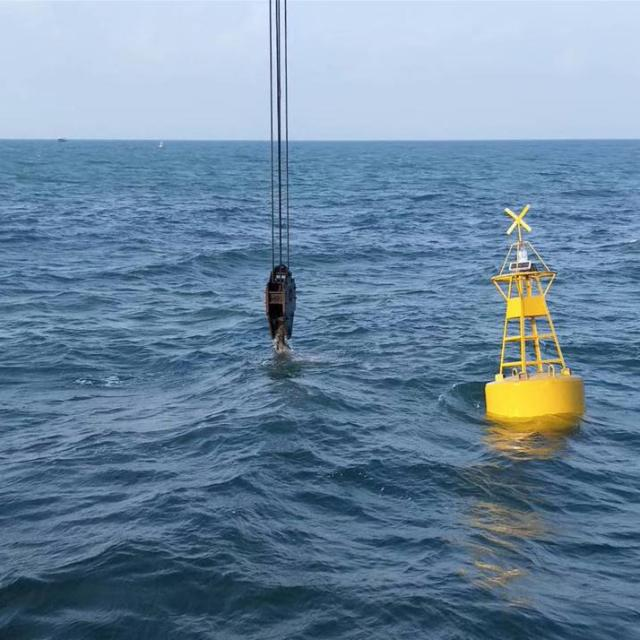buoy: (479, 198, 590, 432)
